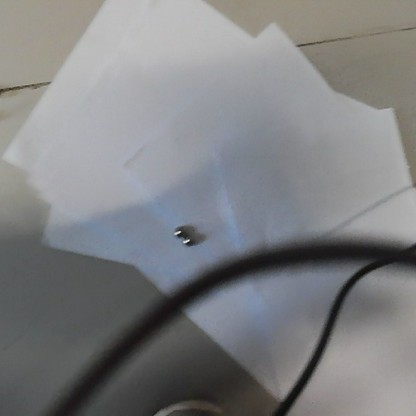ironball: (171, 222, 187, 237), (181, 232, 194, 249)
